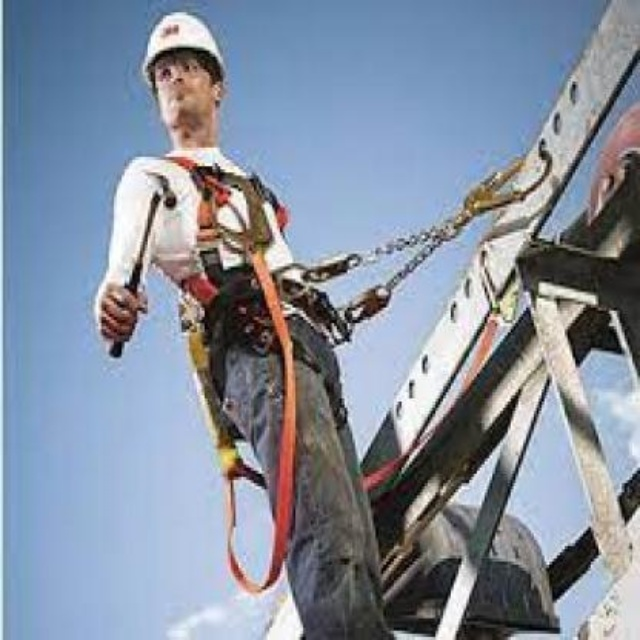Arnes_seguridad: (155, 155, 306, 594)
